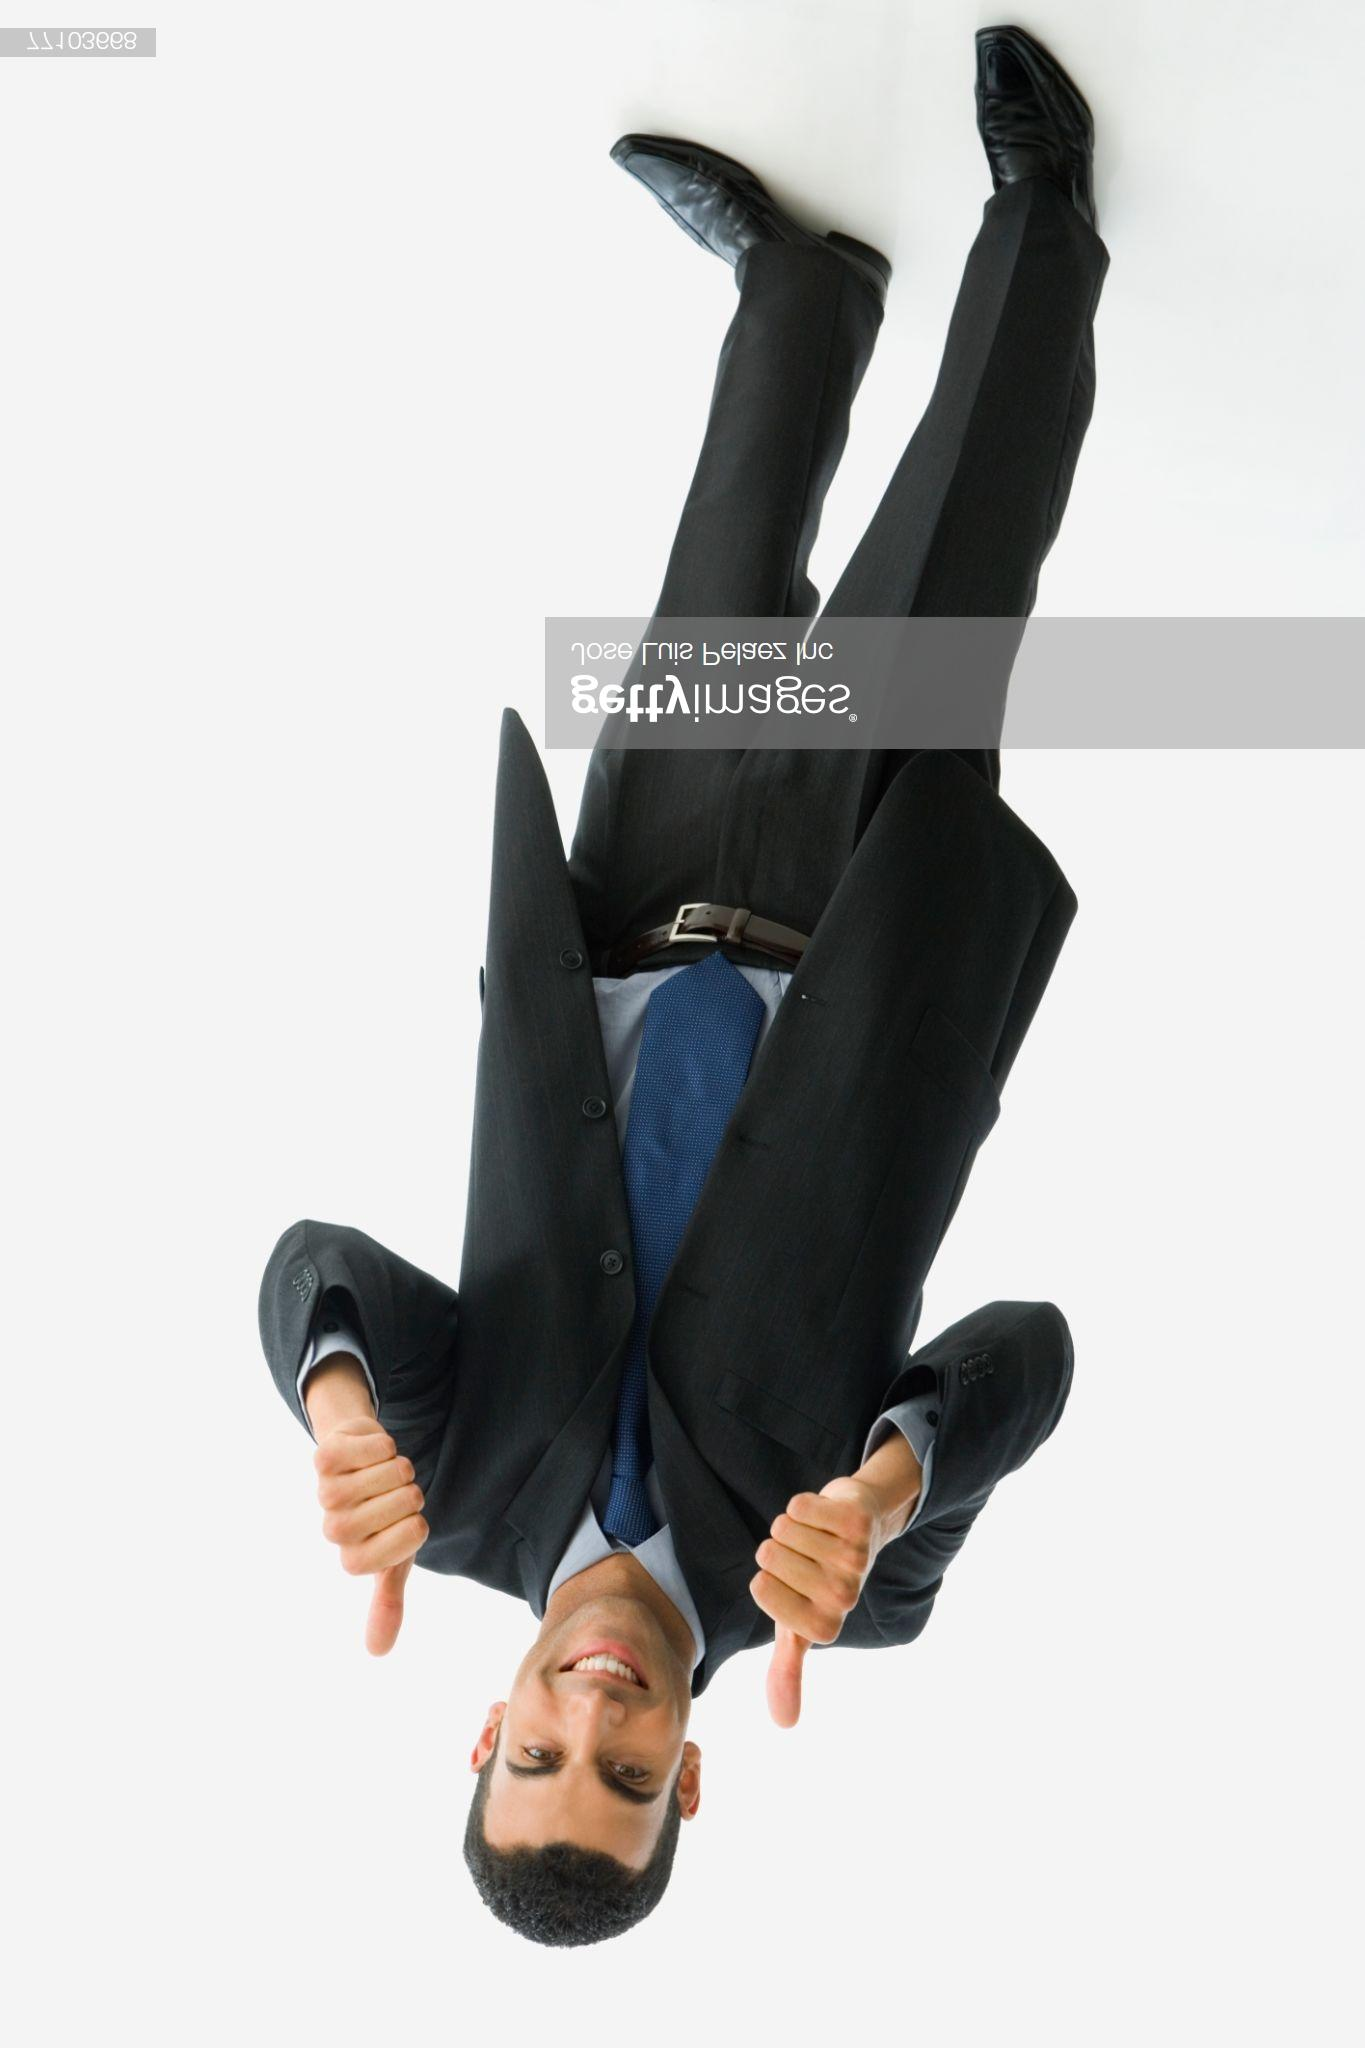thumbsdown: (746, 1491, 874, 1728), (312, 1431, 431, 1658)
